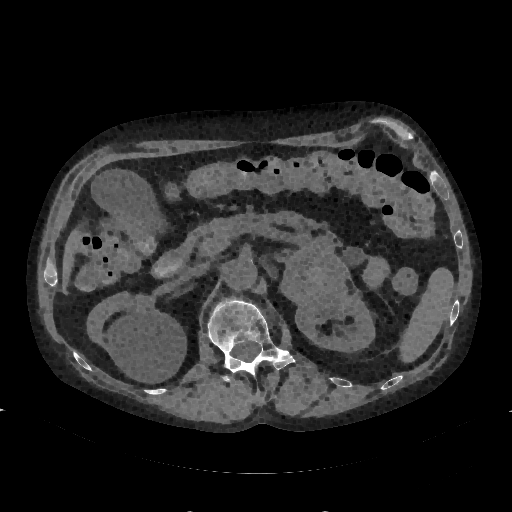Lesion: (277, 243, 356, 313)
